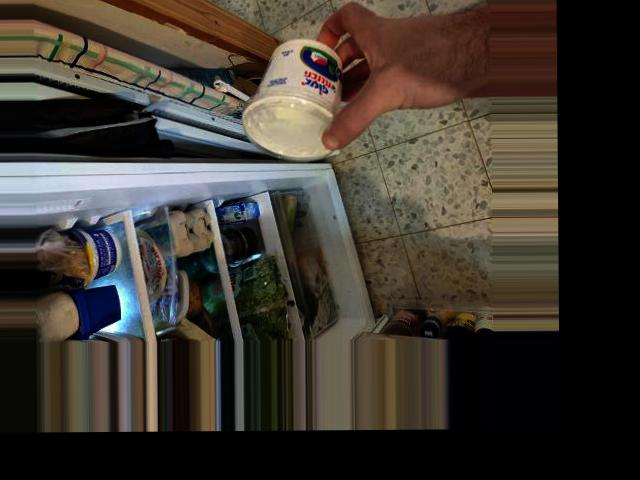cotage: (233, 38, 354, 139)
